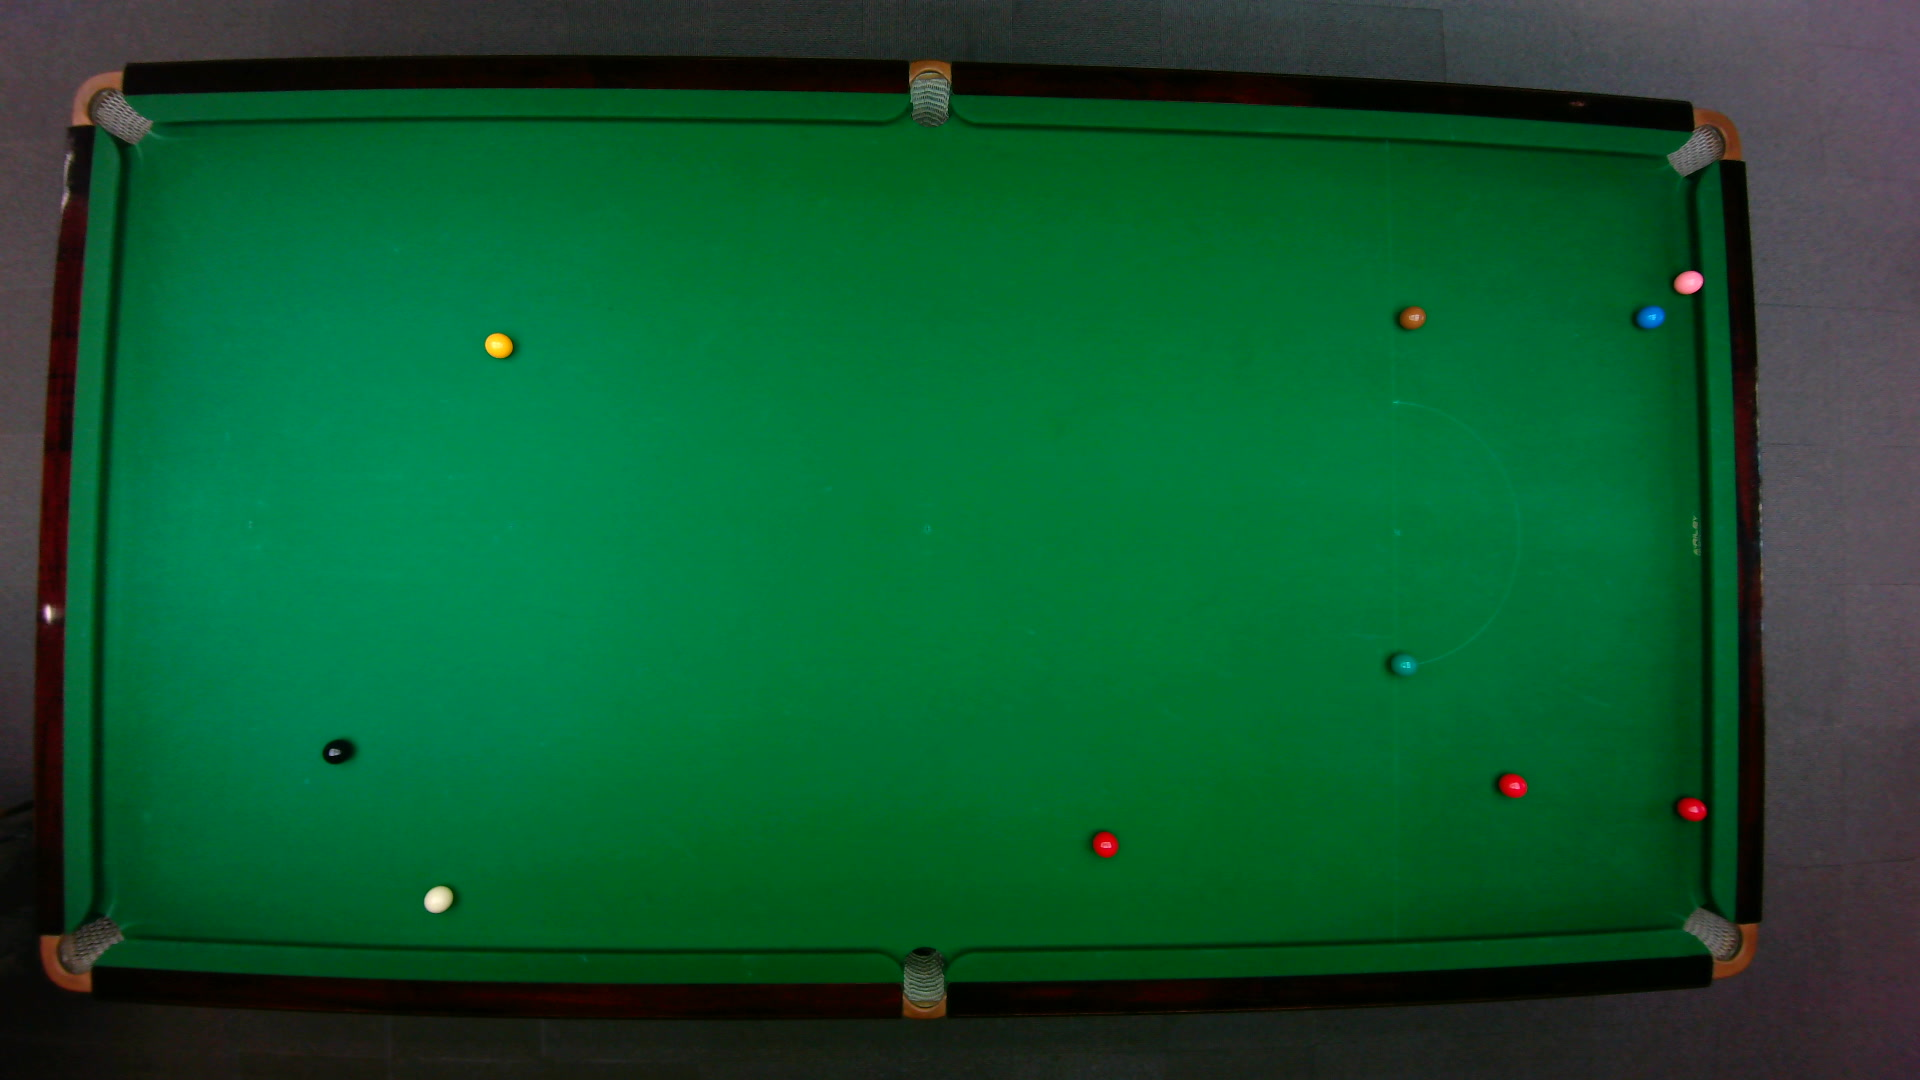bag: (37, 913, 127, 992), (69, 69, 152, 145), (1677, 905, 1758, 978), (1663, 107, 1741, 177), (901, 944, 945, 1021), (909, 57, 949, 127)
black: (320, 736, 353, 765)
blue: (1634, 303, 1665, 328)
brown: (1396, 305, 1427, 328)
green: (1389, 650, 1418, 676)
pink: (1671, 266, 1705, 295)
red: (1089, 828, 1120, 858), (1673, 795, 1708, 822), (1495, 771, 1528, 796)
white: (421, 884, 454, 913)
yellow: (483, 330, 513, 359)
zone: (1390, 398, 1519, 669)
